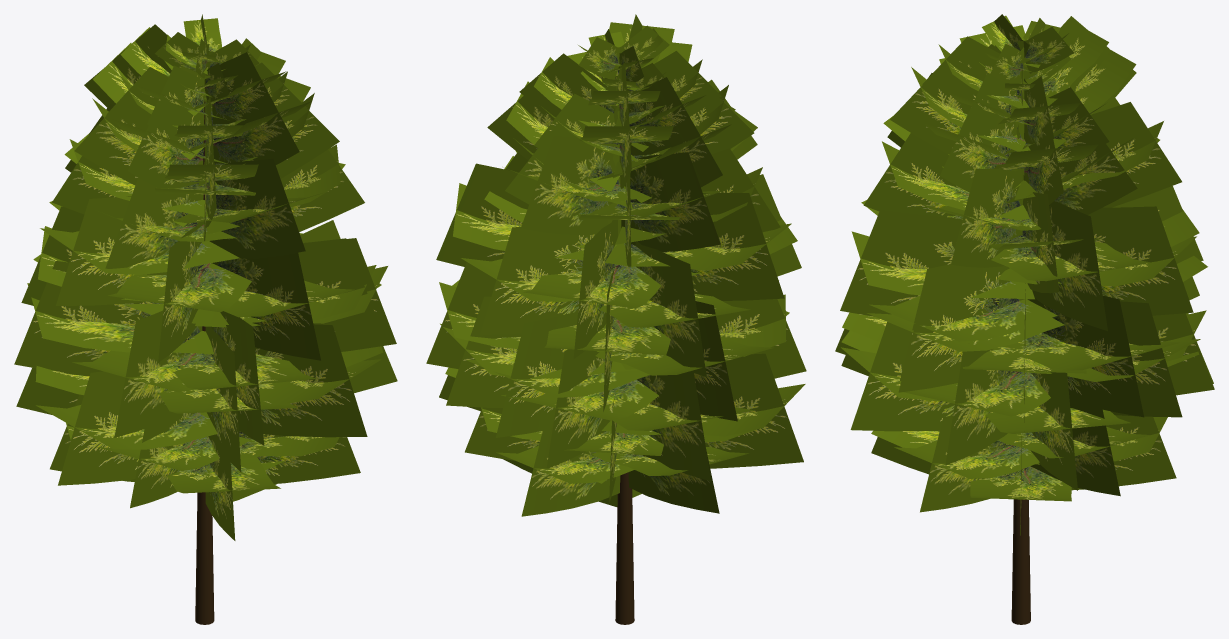
Rendered from Free Tree 1.fbx.
3 renders of one model, left to right at view 1: azimuth 30°, elevation 25°; view 2: azimuth 150°, elevation 25°; view 3: azimuth 270°, elevation 25°, orthographic.
Visible parts, largest first — view 1: Plane017, Plane042, Plane039, Plane054, Plane053, Plane021, Plane025, Plane050, Plane022, Plane071, Plane024, Plane046 (+30 smaller); view 2: Plane053, Plane042, Plane019, Plane055, Plane056, Plane016, Plane052, Plane020, Plane041, Plane074, Plane051, Plane012 (+28 smaller); view 3: Plane054, Plane047, Plane048, Plane019, Plane051, Plane072, Plane039, Plane025, Plane058, Plane055, Plane040, Plane043 (+27 smaller).
Part boxes in pixels (x1,y1,x2,y2): Plane017: (14,261,213,376); Plane042: (36,371,217,485); Plane039: (239,324,381,437); Plane054: (212,252,354,360); Plane053: (40,196,239,305); Plane021: (108,221,251,362); Plane025: (173,158,322,258); Plane050: (72,310,205,437); Plane022: (192,238,384,346); Plane071: (173,311,316,445); Plane024: (98,178,236,275); Plane046: (96,406,251,508); Plane053: (605,193,791,300); Plane042: (602,353,805,468); Plane019: (461,220,621,335); Plane055: (506,136,651,234); Plane056: (589,152,736,251); Plane016: (465,312,649,437); Plane052: (523,220,660,359); Plane020: (599,241,750,377); Plane041: (501,349,658,468); Plane074: (612,354,754,481); Plane051: (436,163,609,266); Plane012: (496,421,634,516); Plane054: (840,209,1034,316); Plane047: (867,265,1064,392); Plane048: (1002,295,1179,417); Plane019: (997,206,1196,315); Plane051: (991,201,1151,330); Plane072: (903,349,1050,465); Plane039: (841,322,954,431); Plane025: (863,133,1029,220); Plane058: (919,168,1052,267); Plane055: (1014,102,1181,207); Plane040: (985,372,1130,490); Plane043: (894,415,1039,512).
Bounding box in the file's own units: 479 × 822 × 471.
2 materials, 2 textured.
